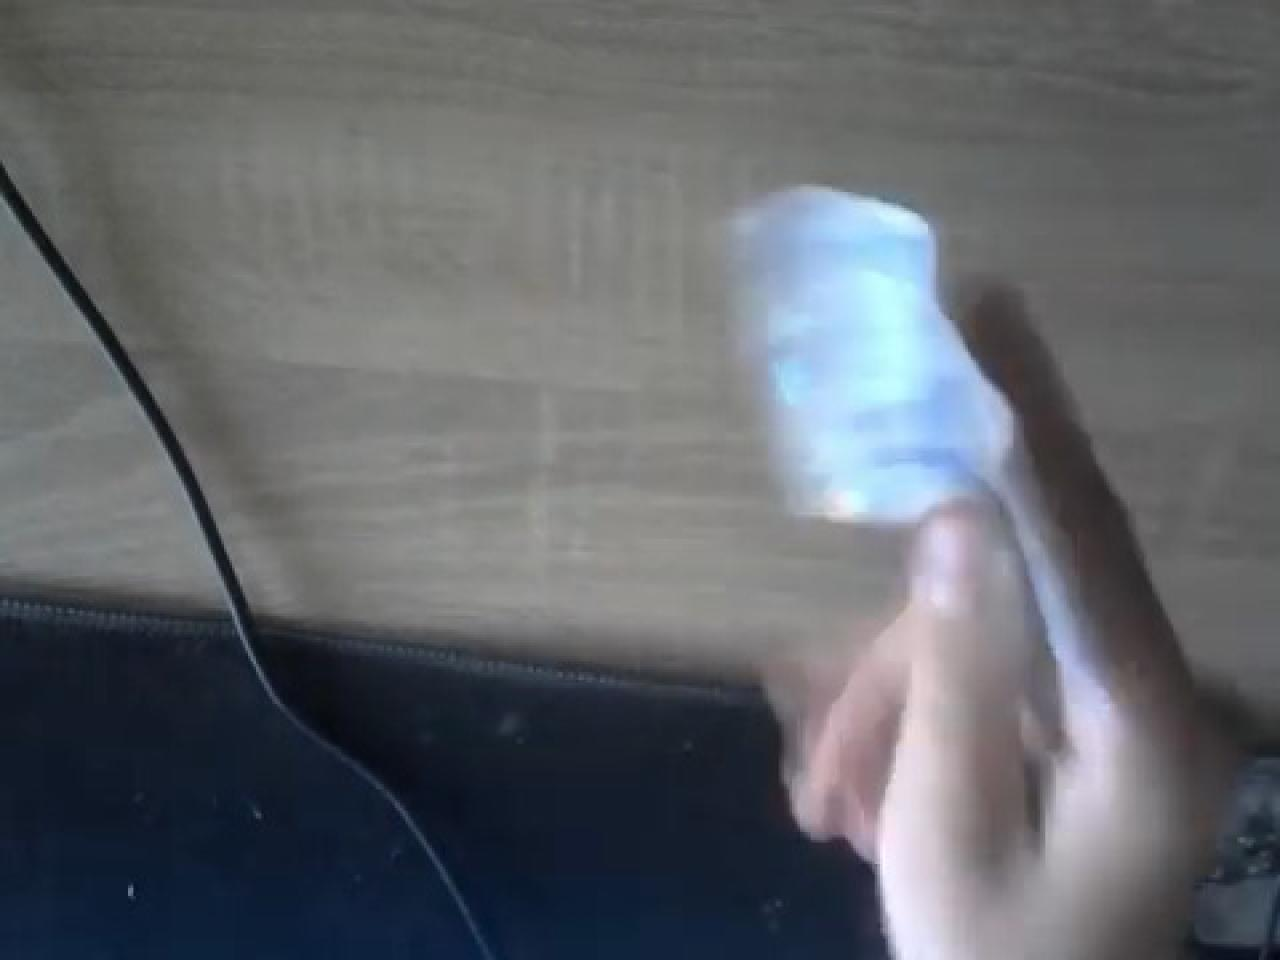20leva: (720, 182, 1019, 534)
